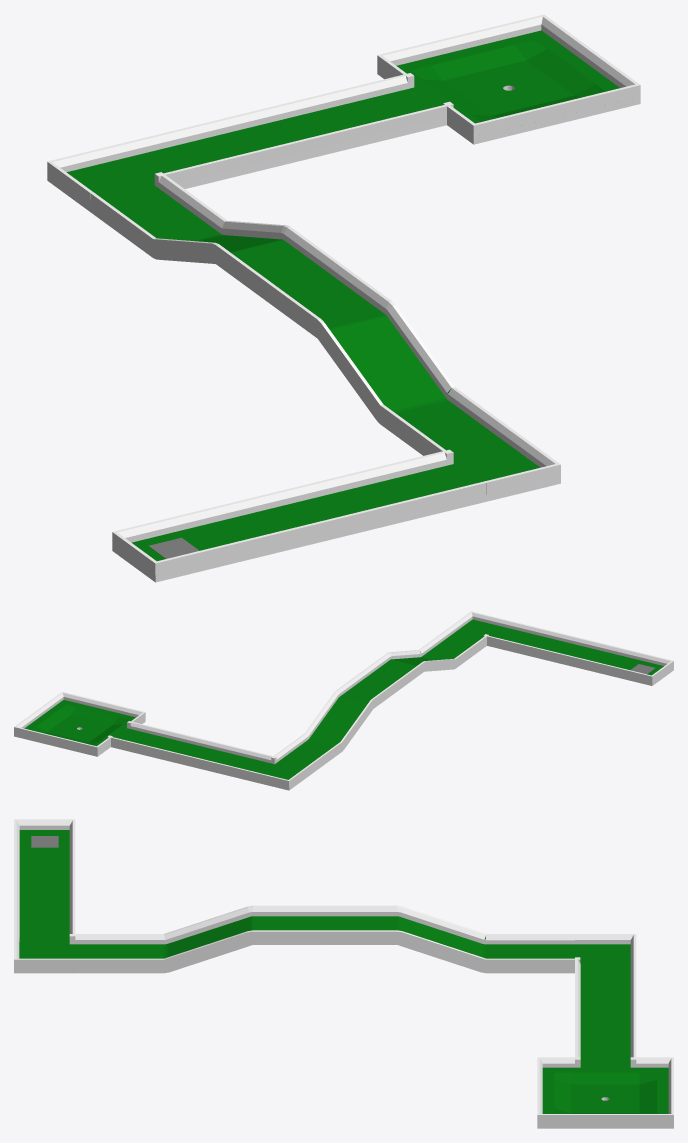
Rendered from Level8Model.obj.
3 renders of one model, top to bottom at view 1: azimuth 30°, elevation 25°; view 2: azimuth 150°, elevation 25°; view 3: azimuth 270°, elevation 25°, orthographic. The views are drawn at different scales.
Parts seen in each view (by area): view 1: pCube315; view 2: pCube315; view 3: pCube315.
Part boxes in pixels (x1,y1,x2,y2): pCube315: (47, 14, 640, 582); pCube315: (14, 611, 673, 790); pCube315: (14, 819, 673, 1128).
Bounding box in the file's own units: 25.57 × 2.06 × 24.13.
Materials: 5 (4 with a texture image).
